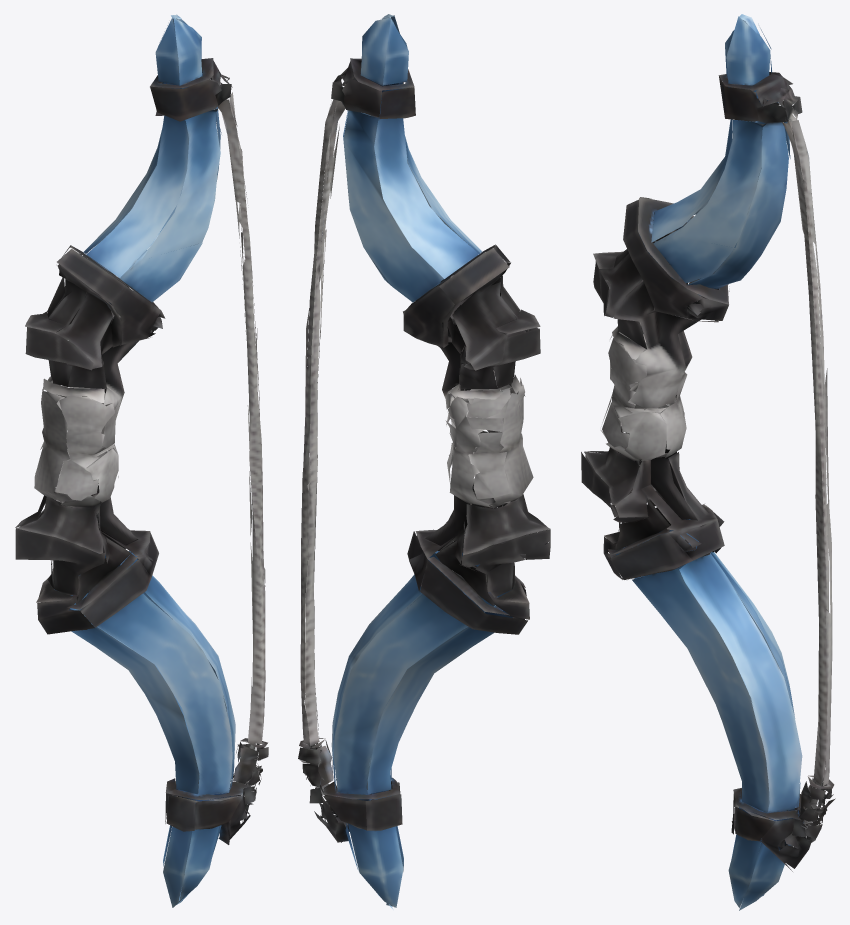
Rendered from arco5.glb.
The picture shows the model from 3 angles, left to right: view 1: azimuth 30°, elevation 25°; view 2: azimuth 150°, elevation 25°; view 3: azimuth 330°, elevation 25°; orthographic projection.
Visible parts, largest first — view 1: geometry_0; view 2: geometry_0; view 3: geometry_0.
Boxes of the visible parts, box(x1,y1,x2,y2) form: geometry_0: box(15, 14, 268, 907); geometry_0: box(298, 14, 550, 909); geometry_0: box(581, 14, 835, 910).
Bounding box in the file's own units: 1.58 × 5.36 × 0.6295.
Materials: 1 (1 with a texture image).
